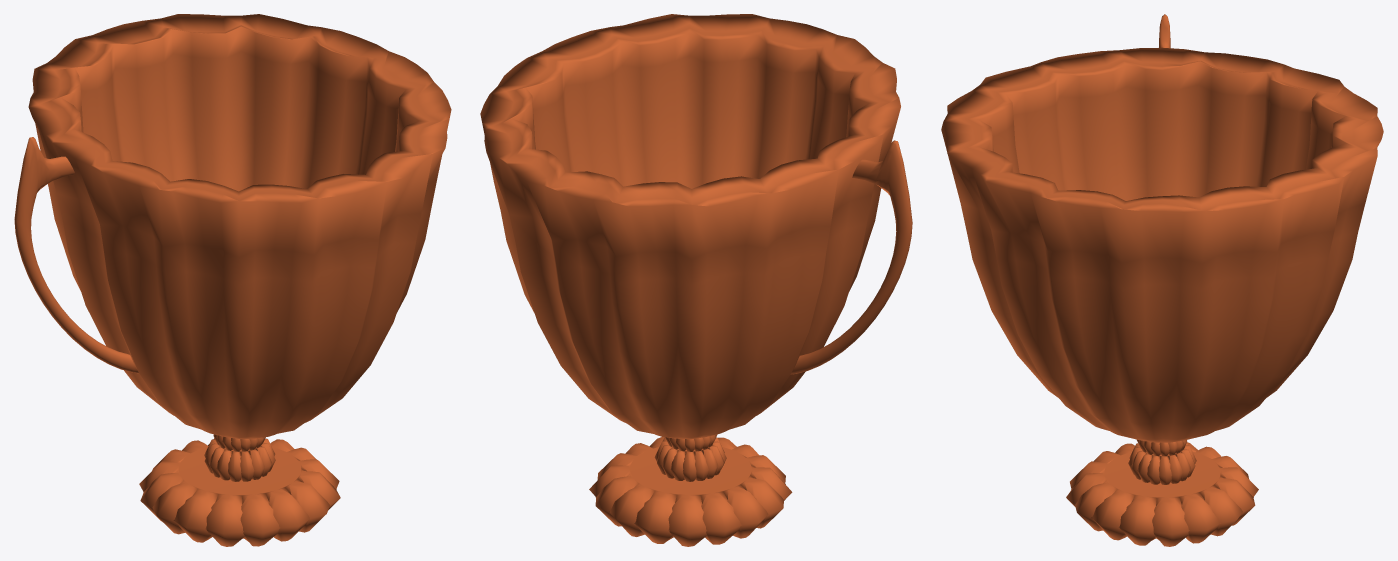
The model's file is awardcupBronze.gltf.
The picture shows the model from 3 angles, left to right: view 1: azimuth 30°, elevation 25°; view 2: azimuth 150°, elevation 25°; view 3: azimuth 270°, elevation 25°; orthographic projection. The views are drawn at different scales.
Parts seen in each view (by area): view 1: Sphere, Cylinder.001, Torus.001, Cylinder.004, Cylinder.003; view 2: Sphere, Cylinder.001, Torus.001, Cylinder.004, Cylinder.003; view 3: Sphere, Cylinder.001, Cylinder.004, Cylinder.003.
Boxes of the visible parts, x1,y1,x2,y2 form: Sphere: (28,14,451,438); Cylinder.001: (139,439,340,546); Torus.001: (14,137,138,373); Cylinder.004: (204,438,275,481); Cylinder.003: (213,434,265,451); Sphere: (480,14,900,439); Cylinder.001: (589,437,792,546); Torus.001: (791,140,912,374); Cylinder.004: (654,437,726,481); Cylinder.003: (665,434,717,451); Sphere: (941,47,1383,442); Cylinder.001: (1066,442,1258,546); Cylinder.004: (1128,443,1196,484); Cylinder.003: (1137,439,1187,456).
Bounding box in the file's own units: 1.84 × 1.87 × 1.86.
